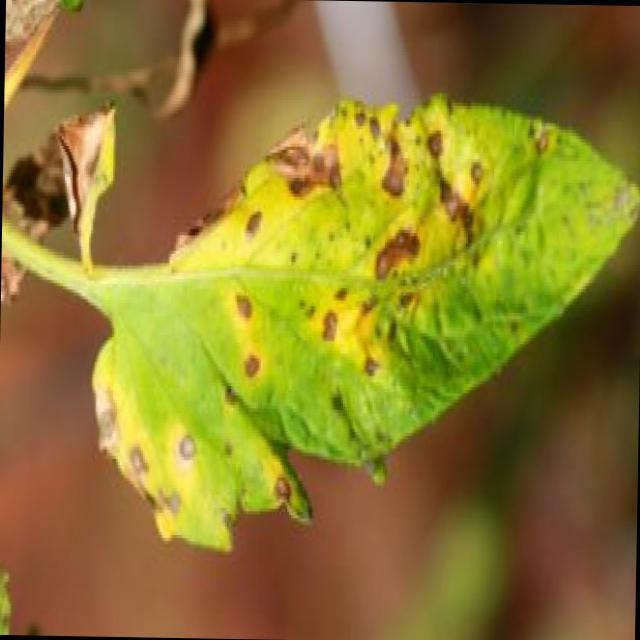Septoria: (130, 102, 550, 520)
